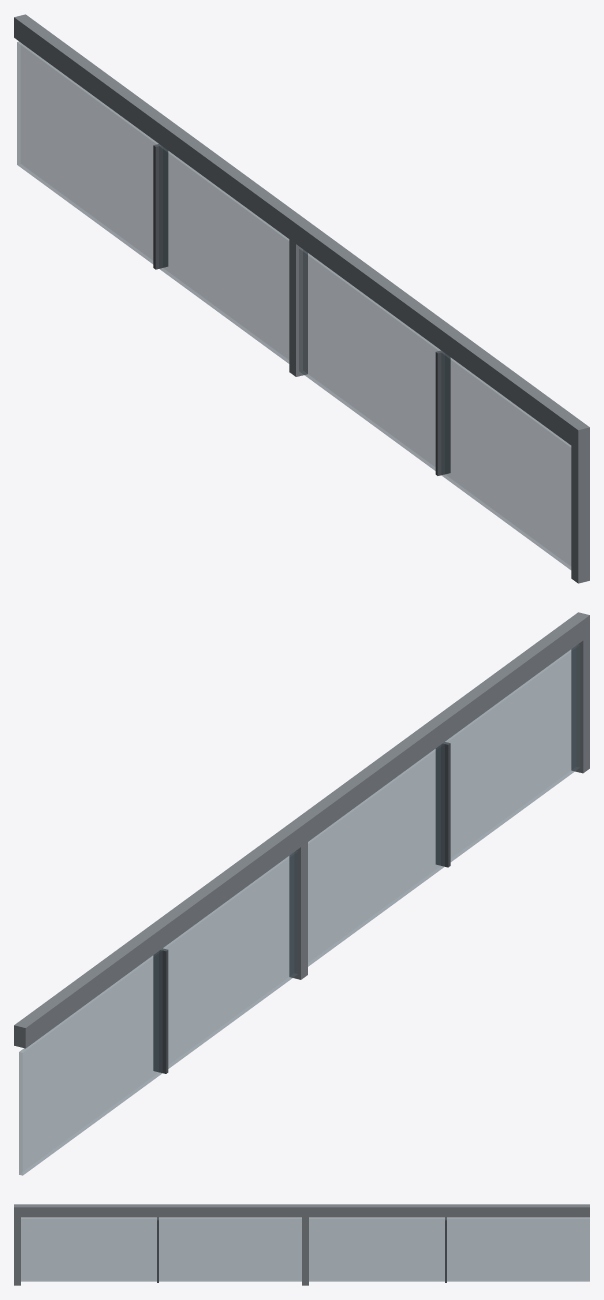
Rendered from psd-half.glb.
3 renders of one model, top to bottom at view 1: azimuth 30°, elevation 25°; view 2: azimuth 150°, elevation 25°; view 3: azimuth 270°, elevation 25°, orthographic. The views are drawn at different scales.
Parts seen in each view (by area): view 1: PSDHalf; view 2: PSDHalf; view 3: PSDHalf.
Boxes of the visible parts, bbox=[...] form: PSDHalf: bbox=[14, 14, 589, 583]; PSDHalf: bbox=[14, 612, 589, 1175]; PSDHalf: bbox=[14, 1204, 589, 1285].
Size of the model in its own units: 0.1301 by 1.5 by 10.
